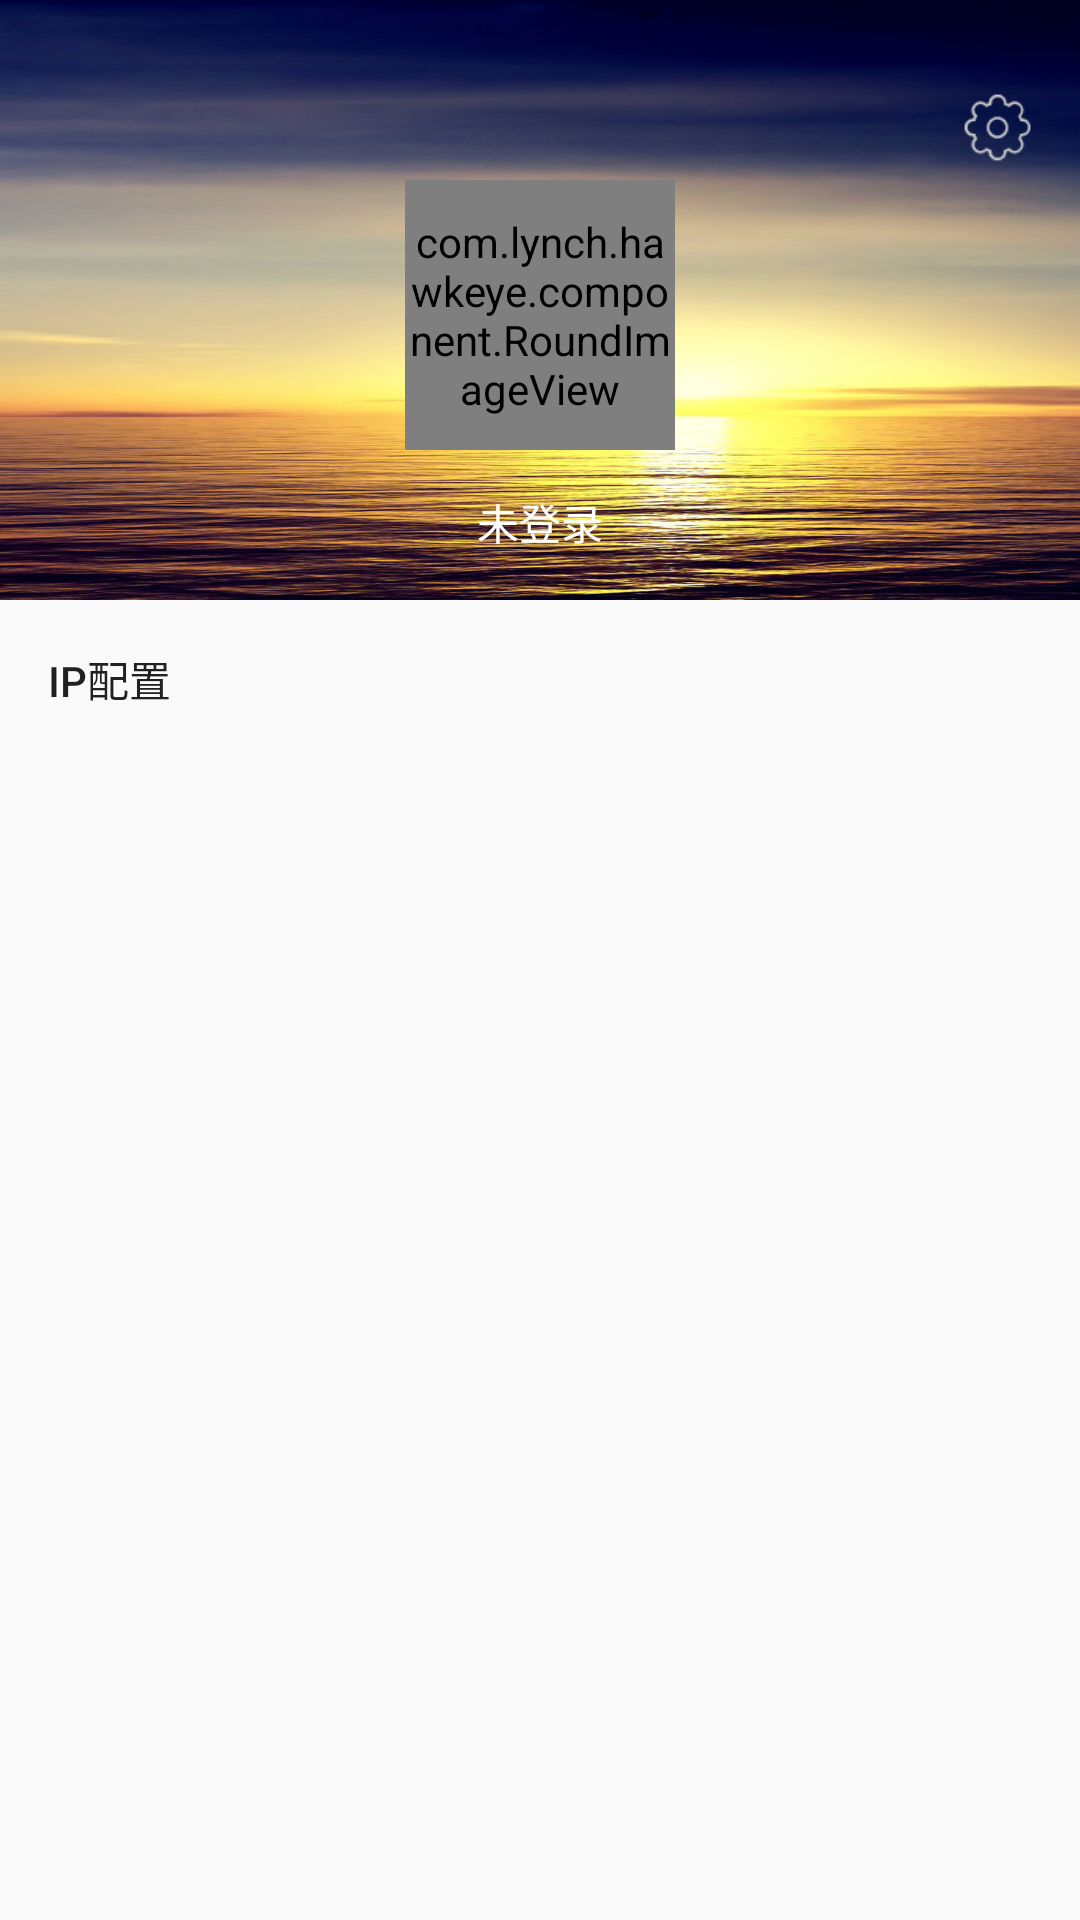

Icons on this 1080w x 1920h Android screen, each with its box as region(x1, y1, x2, y2):
setting: region(960, 90, 1035, 165)
